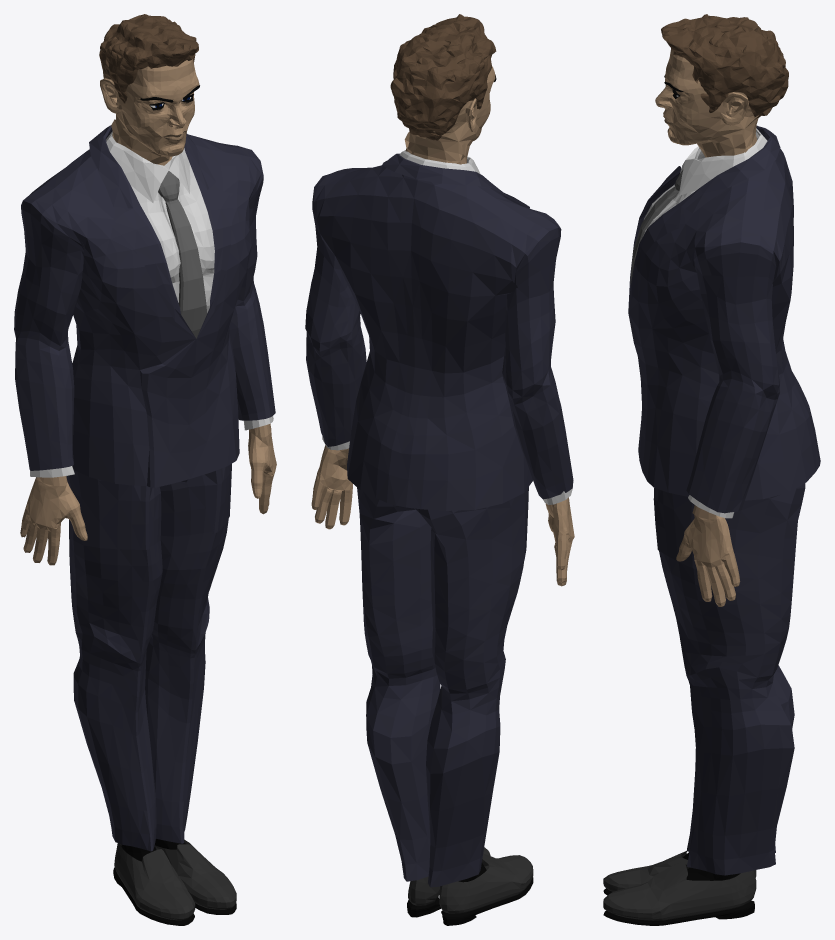
The model's file is male-01-suit.obj.
3 views of the same model, side by side, from view 1: azimuth 30°, elevation 25°; view 2: azimuth 150°, elevation 25°; view 3: azimuth 270°, elevation 25° (orthographic). The views are drawn at different scales.
Visible parts, largest first — view 1: male_male_suit, male_male_skin, male_male_shirt, male_male_shoe_leather, male_male_hair_Chris, male_male_tie, male_male_shadeless_black; view 2: male_male_suit, male_male_hair_Chris, male_male_skin, male_male_shoe_leather, male_male_shadeless_black, male_male_shirt; view 3: male_male_suit, male_male_skin, male_male_hair_Chris, male_male_shoe_leather, male_male_shirt, male_male_shadeless_black, male_male_tie.
Boxes of the visible parts, box(x1,y1,x2,y2) form: male_male_suit: box(14, 125, 275, 851); male_male_skin: box(20, 59, 276, 565); male_male_shirt: box(30, 131, 273, 477); male_male_shoe_leather: box(114, 839, 236, 920); male_male_hair_Chris: box(99, 14, 198, 103); male_male_tie: box(158, 171, 207, 338); male_male_shadeless_black: box(113, 85, 236, 925); male_male_suit: box(305, 153, 573, 887); male_male_hair_Chris: box(390, 14, 496, 140); male_male_skin: box(311, 66, 574, 586); male_male_shoe_leather: box(408, 847, 533, 913); male_male_shadeless_black: box(407, 75, 533, 925); male_male_shirt: box(322, 150, 572, 504); male_male_suit: box(628, 125, 820, 875); male_male_skin: box(655, 48, 758, 606); male_male_hair_Chris: box(661, 14, 788, 118); male_male_shoe_leather: box(603, 851, 756, 920); male_male_shirt: box(643, 128, 767, 518); male_male_shadeless_black: box(603, 75, 754, 925); male_male_tie: box(630, 169, 683, 284).
Bounding box in the file's own units: 3.7 × 12.25 × 2.74.
